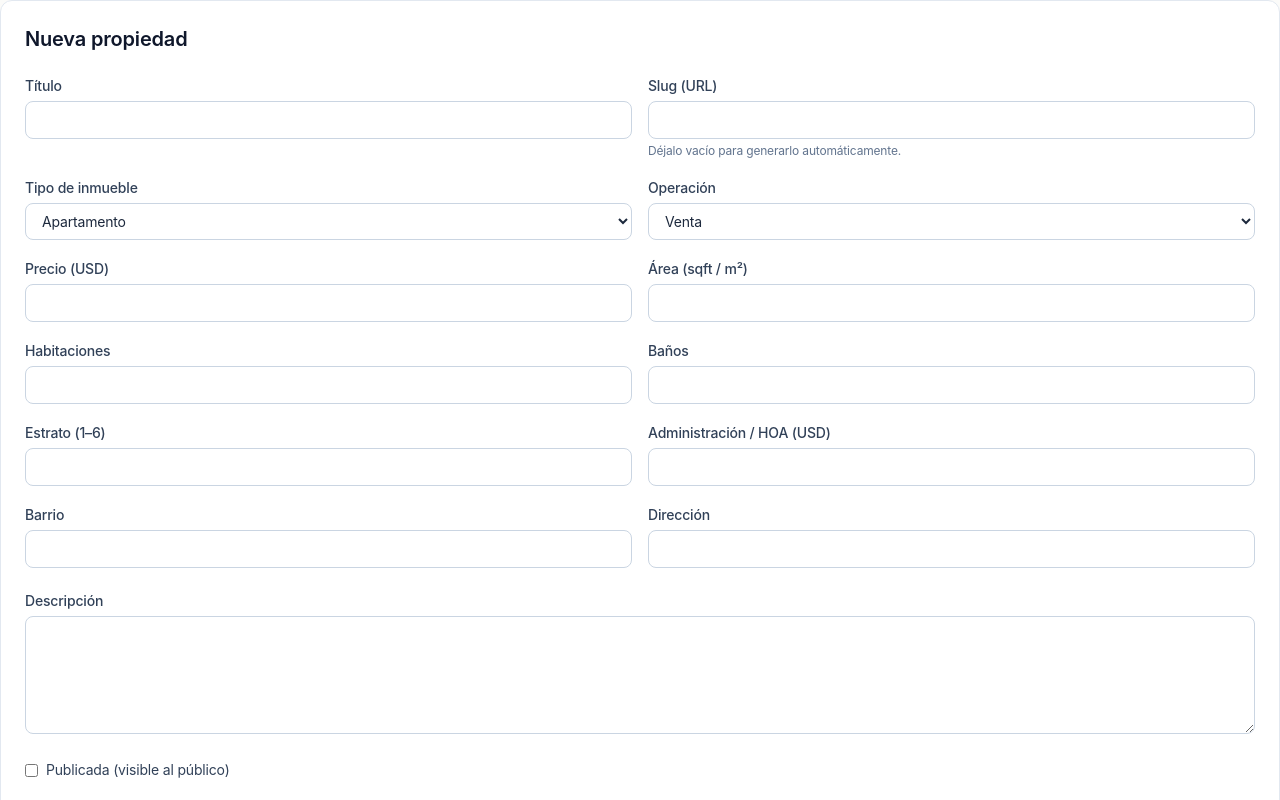
Test: ListingForm › maps 400 field errors inline
In the field labelled "Título": (328, 120) 25,101 -> 632,139, type "Casa Granada"
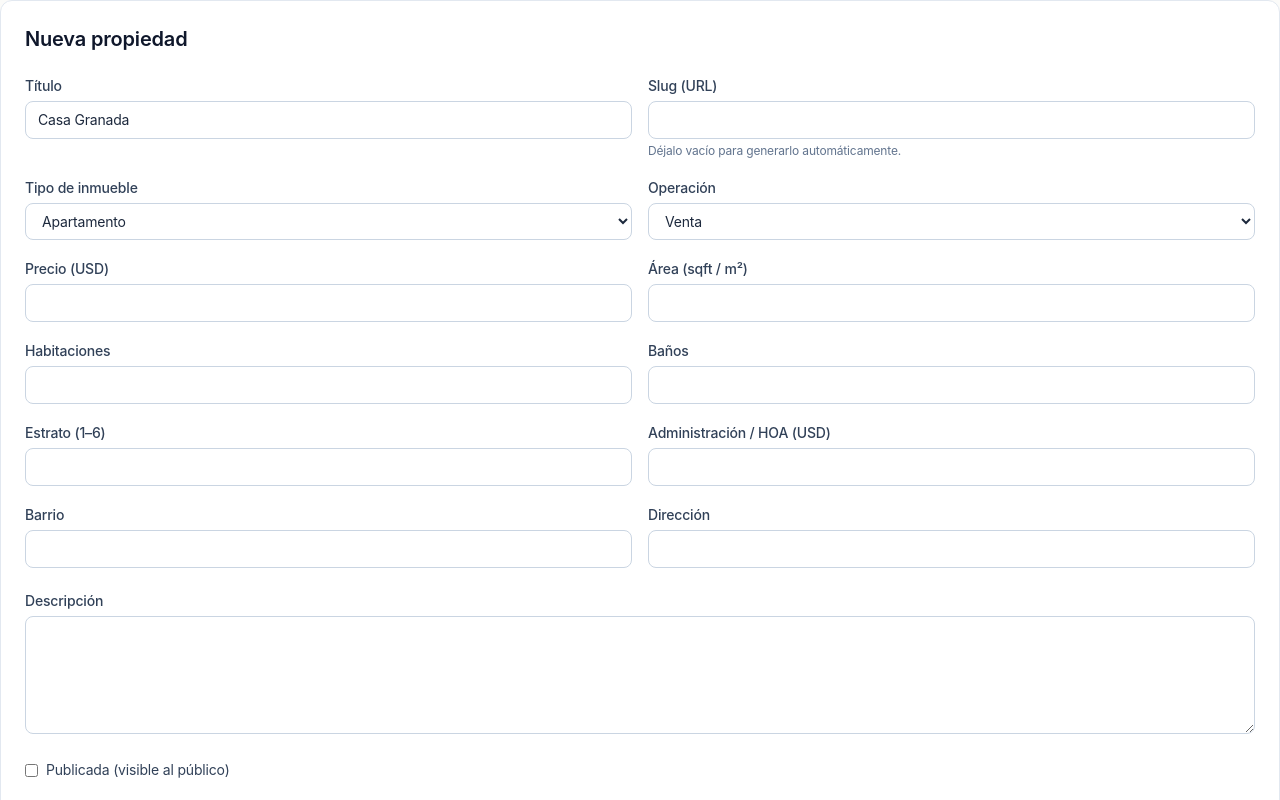
In the field labelled "Precio (USD)": (328, 303) 25,284 -> 632,322, type "450000000"
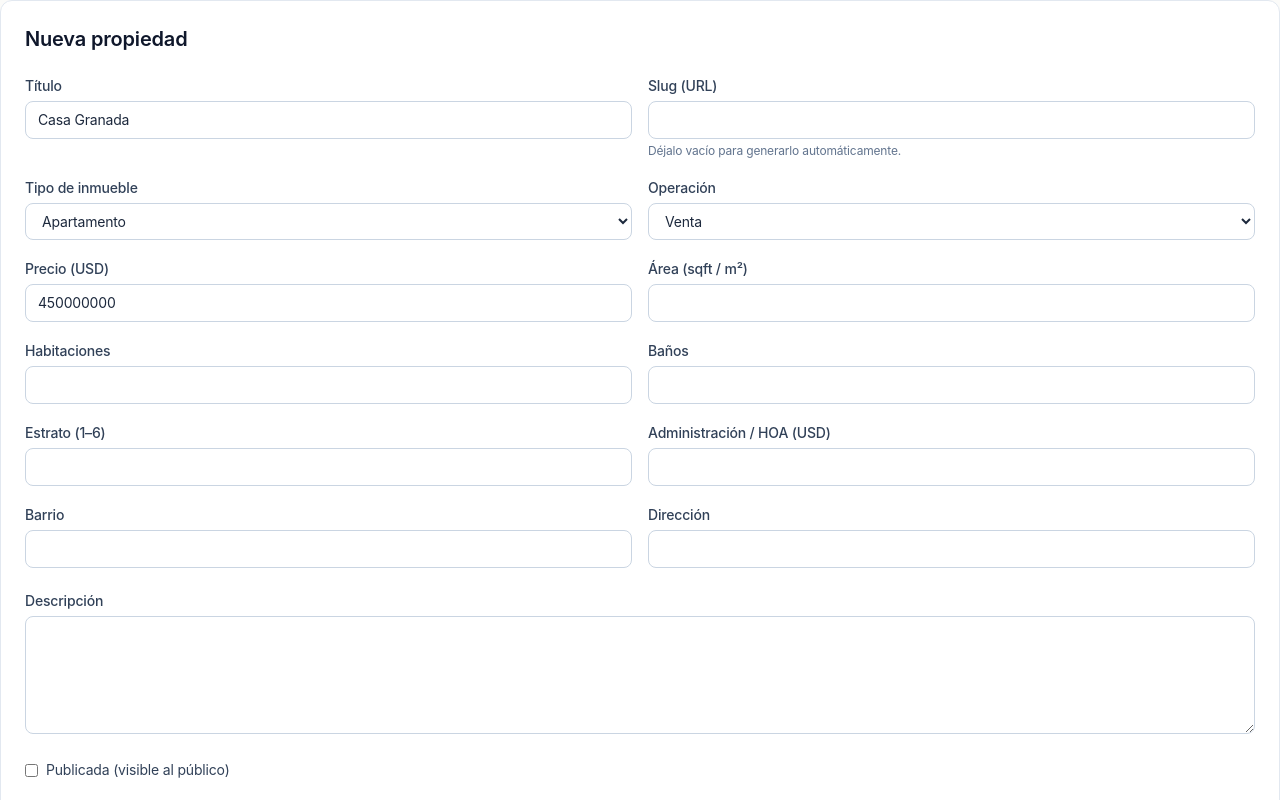
In the field labelled "Barrio": (328, 549) 25,530 -> 632,568, type "Granada"
(page scrolled)
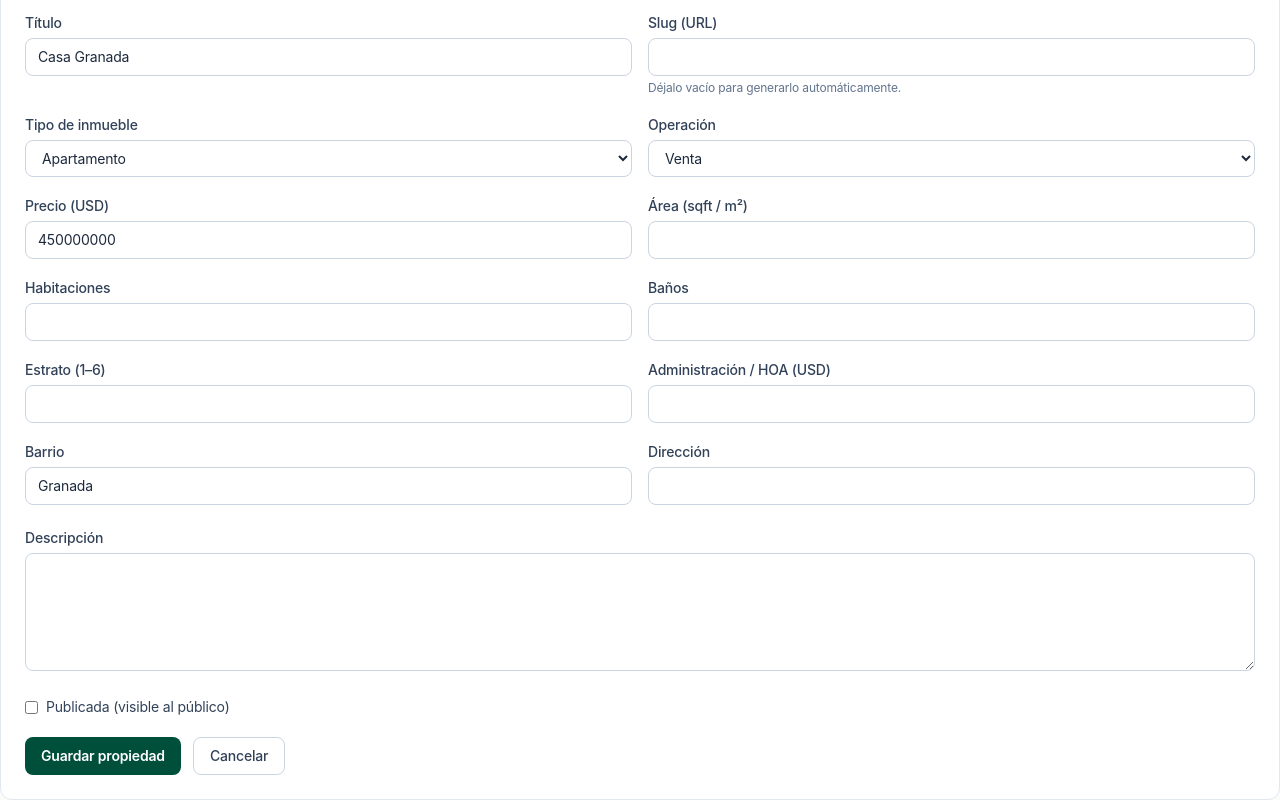
Click the button "Guardar propiedad": (103, 756) 25,737 -> 181,775
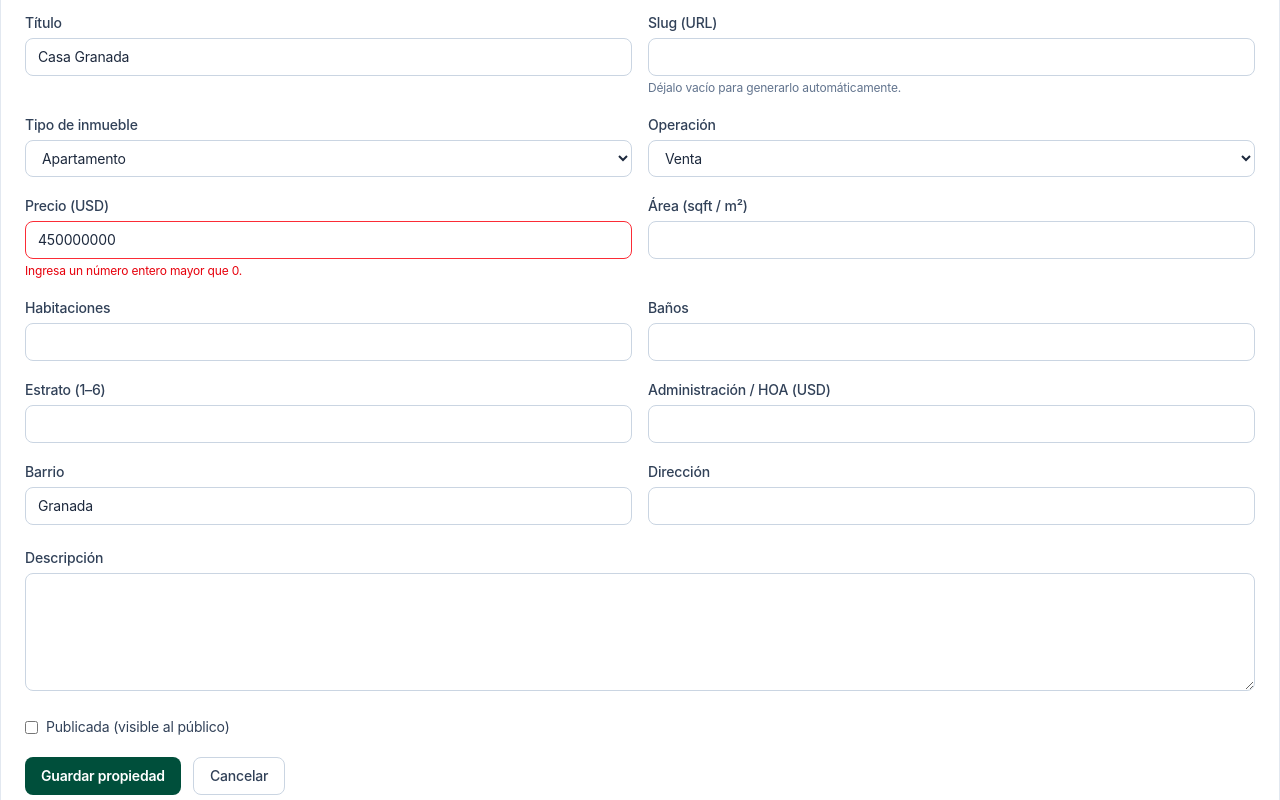
Expected: the text "Ingresa un número entero mayor que 0." is shown, 25,263 -> 242,278
